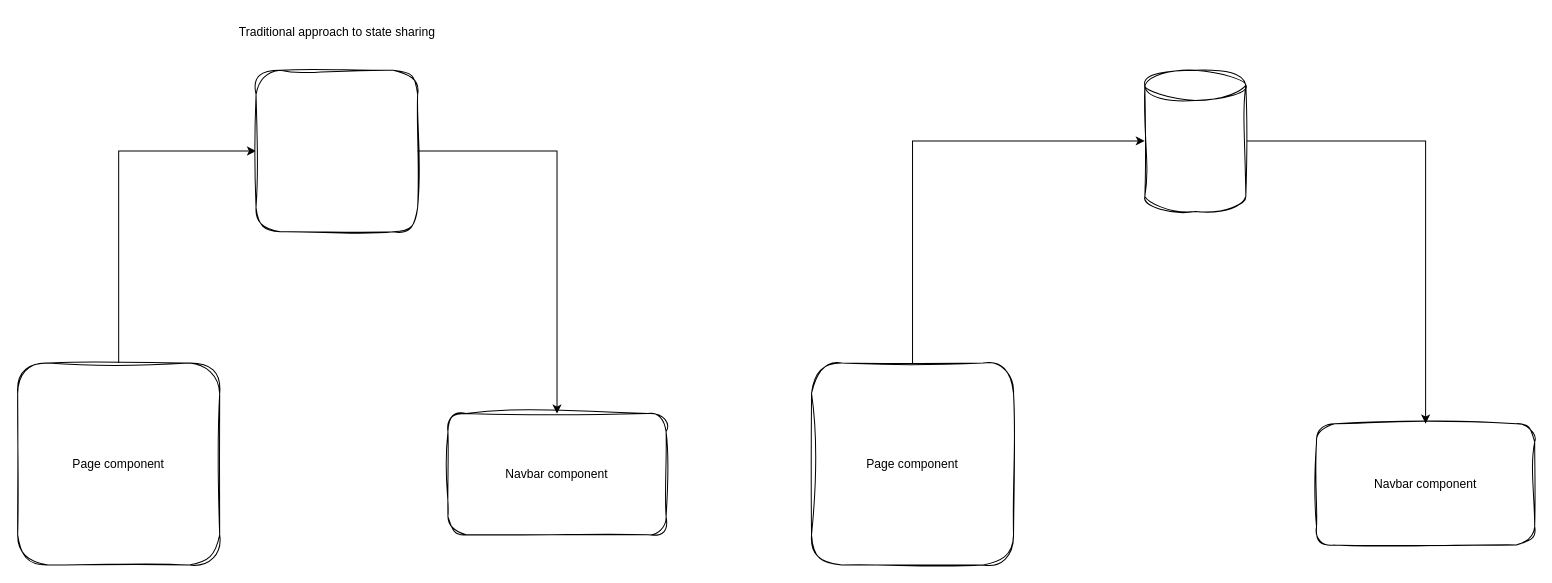
Some shapes in this 1552 by 583 pixel diagram are drawn without their labels. The shapes that lost their labels are listed below. From the top down, each one's centre as x and y in pixels, then its label:
the point at 336,150: Parent component
the point at 1195,140: Redux store
